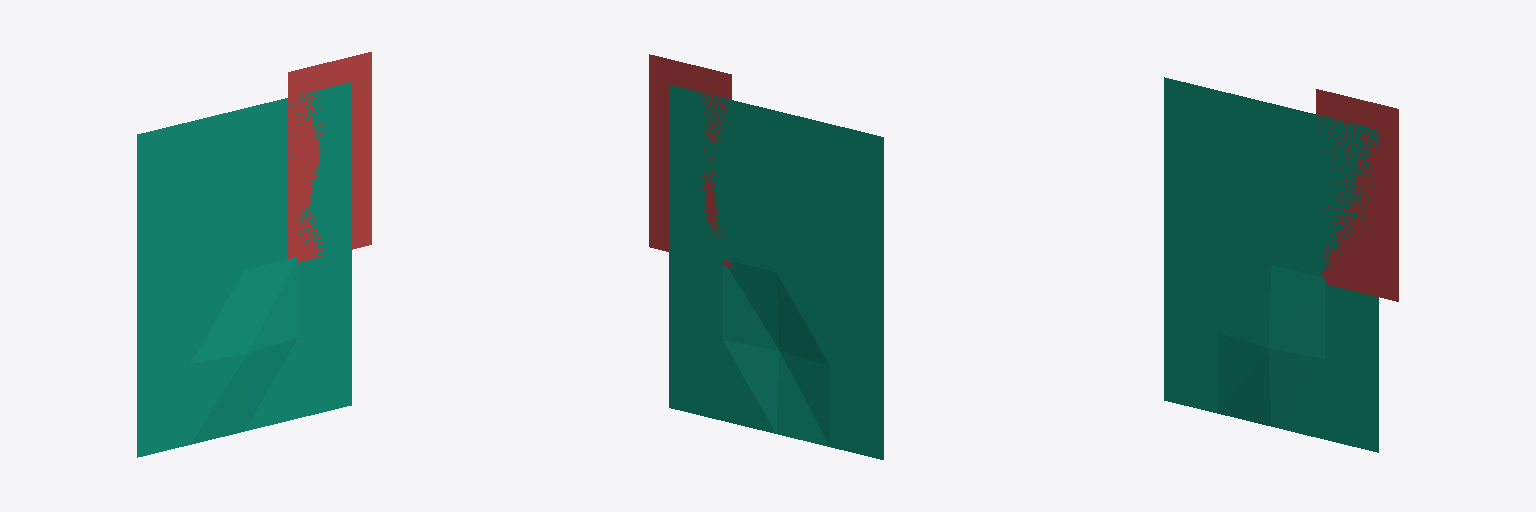
Rendered from mirror.obj.
3 views of the same model, side by side, from view 1: azimuth 30°, elevation 25°; view 2: azimuth 150°, elevation 25°; view 3: azimuth 330°, elevation 25° (orthographic).
Visible parts, largest first — view 1: Plane001, Plane002; view 2: Plane001, Plane002; view 3: Plane001, Plane002.
Part boxes in pixels (bbox=[...]): Plane001: bbox=[137, 82, 351, 457]; Plane002: bbox=[288, 52, 371, 262]; Plane001: bbox=[669, 85, 883, 459]; Plane002: bbox=[649, 54, 731, 267]; Plane001: bbox=[1164, 77, 1378, 452]; Plane002: bbox=[1316, 89, 1398, 301].
Size of the model in its own units: 40.65 by 57.67 by 1.